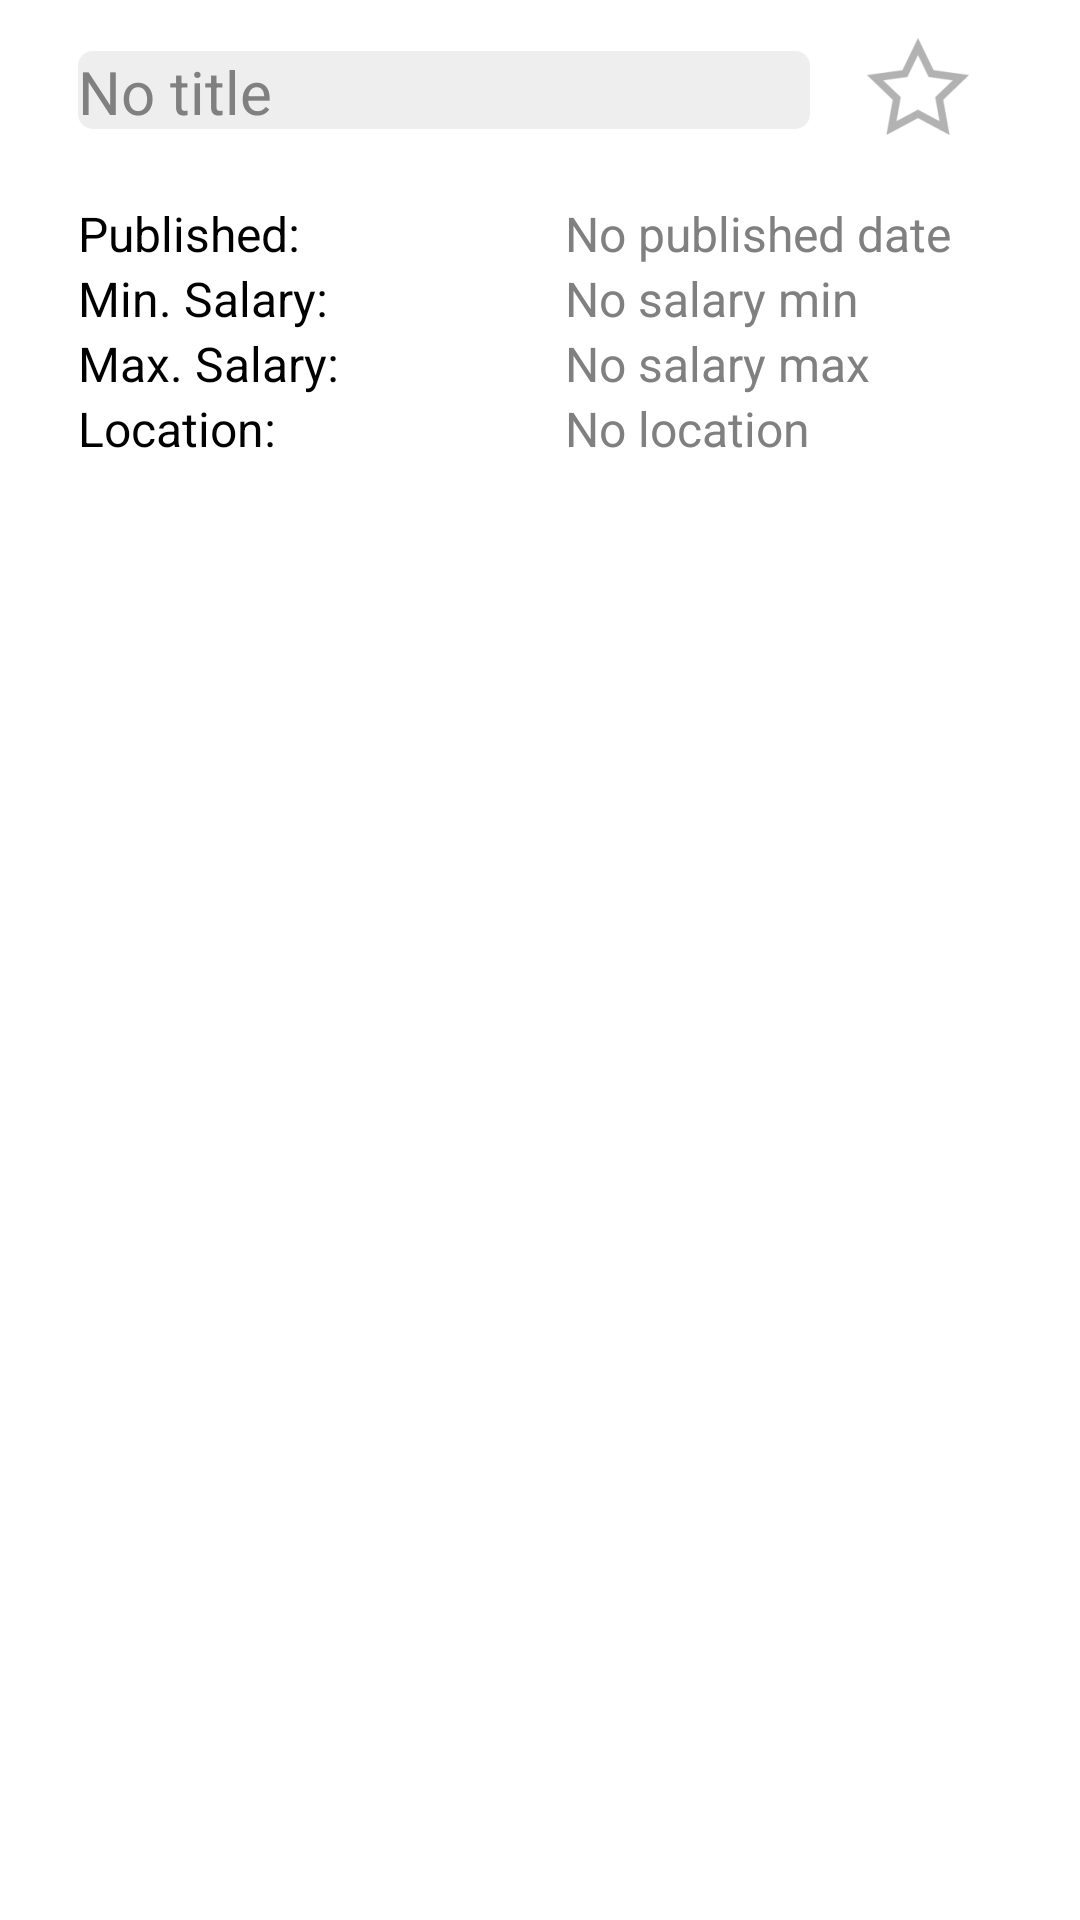

Locate icon controls on the screen. Image size 1080px x 1920px, boxes as (x1, y1, x2, y2).
Unmarked as Favorite: (867, 39, 969, 135)
